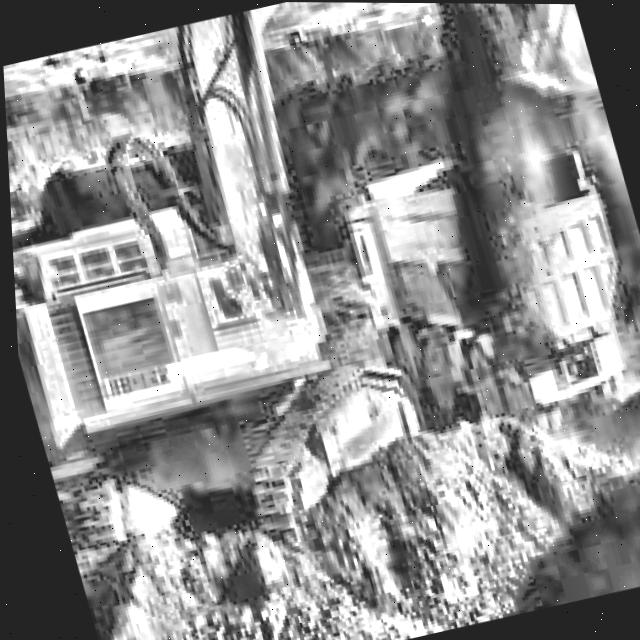dump_truck: (325, 128, 640, 454)
excavator: (0, 0, 640, 608)
